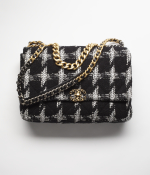channel: (24, 28, 135, 125), (50, 43, 90, 70), (66, 89, 91, 104)
